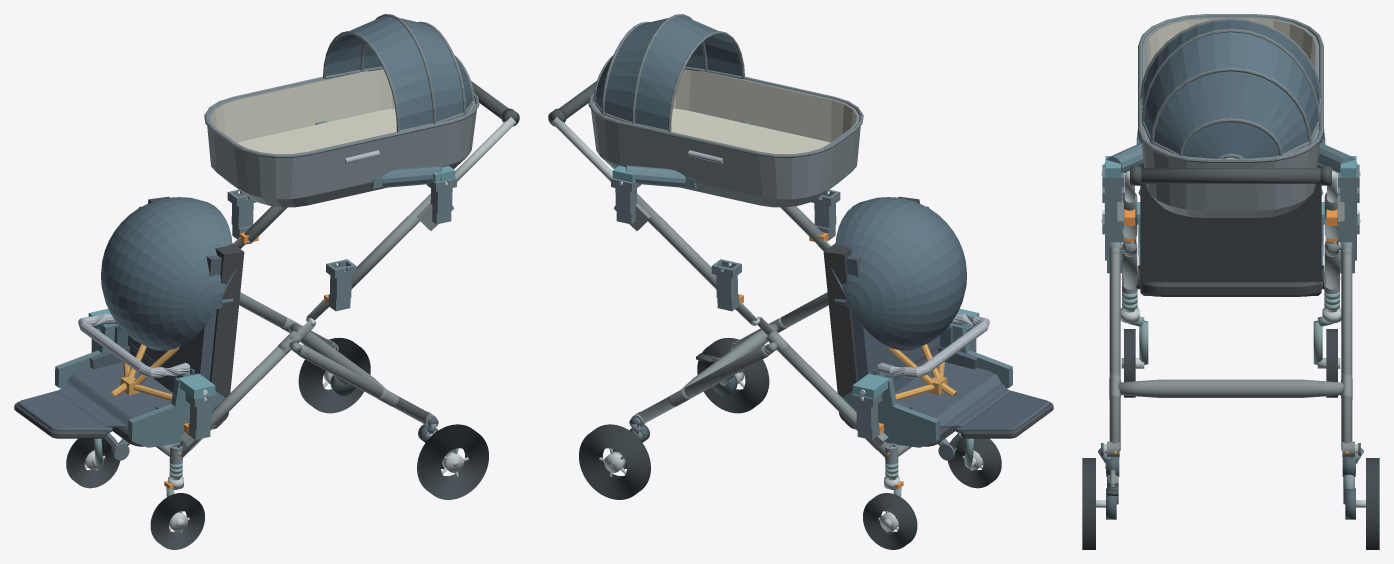
Rendered from D05_w550_state1_wheel_S.glb.
3 views of the same model, side by side, from view 1: azimuth 30°, elevation 25°; view 2: azimuth 150°, elevation 25°; view 3: azimuth 270°, elevation 25° (orthographic). The views are drawn at different scales.
Parts seen in each view (by area): view 1: D05_Upper, D05_Lower, D05_Lower_Mount_L, RL_tire.002, RR_tire.002, FL_tire.002, FR_tire.002, V46_rear_leg_-1.003, main_lower_-1.003, D05_Upper_Mount_H, main_upper_-1.003, Universal_Cabin_Receiver_M_-1 (+6 smaller); view 2: D05_Upper, D05_Lower, D05_Lower_Mount_L, RR_tire.002, RL_tire.002, FR_tire.002, FL_tire.002, V46_rear_leg_1.003, main_lower_1.003, D05_Upper_Mount_H, main_upper_1.003, Universal_Cabin_Receiver_M_1 (+6 smaller); view 3: D05_Upper, D05_Lower, V46_rearbar.003, round_handle.002, V46_rear_leg_1.003, V46_rear_leg_-1.003, D05_Upper_Mount_H, RL_tire.002, RR_tire.002, Universal_Cabin_Receiver_H_1, Universal_Cabin_Receiver_H_-1, FL_tire.002 (+10 smaller).
Boxes of the visible parts, x1,y1,x2,y2 form: D05_Upper: (204,14,479,207); D05_Lower: (14,196,244,460); D05_Lower_Mount_L: (55,309,225,447); RL_tire.002: (417,424,488,499); RR_tire.002: (298,338,370,413); FL_tire.002: (150,493,204,549); FR_tire.002: (66,438,119,488); V46_rear_leg_-1.003: (298,345,429,423); main_lower_-1.003: (177,346,289,457); D05_Upper_Mount_H: (315,121,455,188); main_upper_-1.003: (351,193,430,288); Universal_Cabin_Receiver_M_-1: (326,259,356,311); D05_Upper: (588,14,863,207); D05_Lower: (823,196,1053,460); D05_Lower_Mount_L: (842,309,1012,447); RR_tire.002: (579,424,650,499); RL_tire.002: (697,338,769,413); FR_tire.002: (863,493,917,549); FL_tire.002: (948,438,1001,488); V46_rear_leg_1.003: (638,345,769,423); main_lower_1.003: (778,346,890,457); D05_Upper_Mount_H: (612,121,752,188); main_upper_1.003: (637,193,716,288); Universal_Cabin_Receiver_M_1: (711,259,741,311); D05_Upper: (1138,14,1323,217); D05_Lower: (1136,129,1325,296); V46_rearbar.003: (1118,379,1343,397); round_handle.002: (1130,168,1331,183); V46_rear_leg_1.003: (1341,251,1352,450); V46_rear_leg_-1.003: (1109,251,1120,450); D05_Upper_Mount_H: (1101,142,1360,177); RL_tire.002: (1082,458,1095,549); RR_tire.002: (1366,458,1379,549); Universal_Cabin_Receiver_H_1: (1337,164,1359,226); Universal_Cabin_Receiver_H_-1: (1102,164,1124,226); FL_tire.002: (1124,329,1135,397).
Bounding box in the file's own units: 1.34 × 1.25 × 0.6471.
